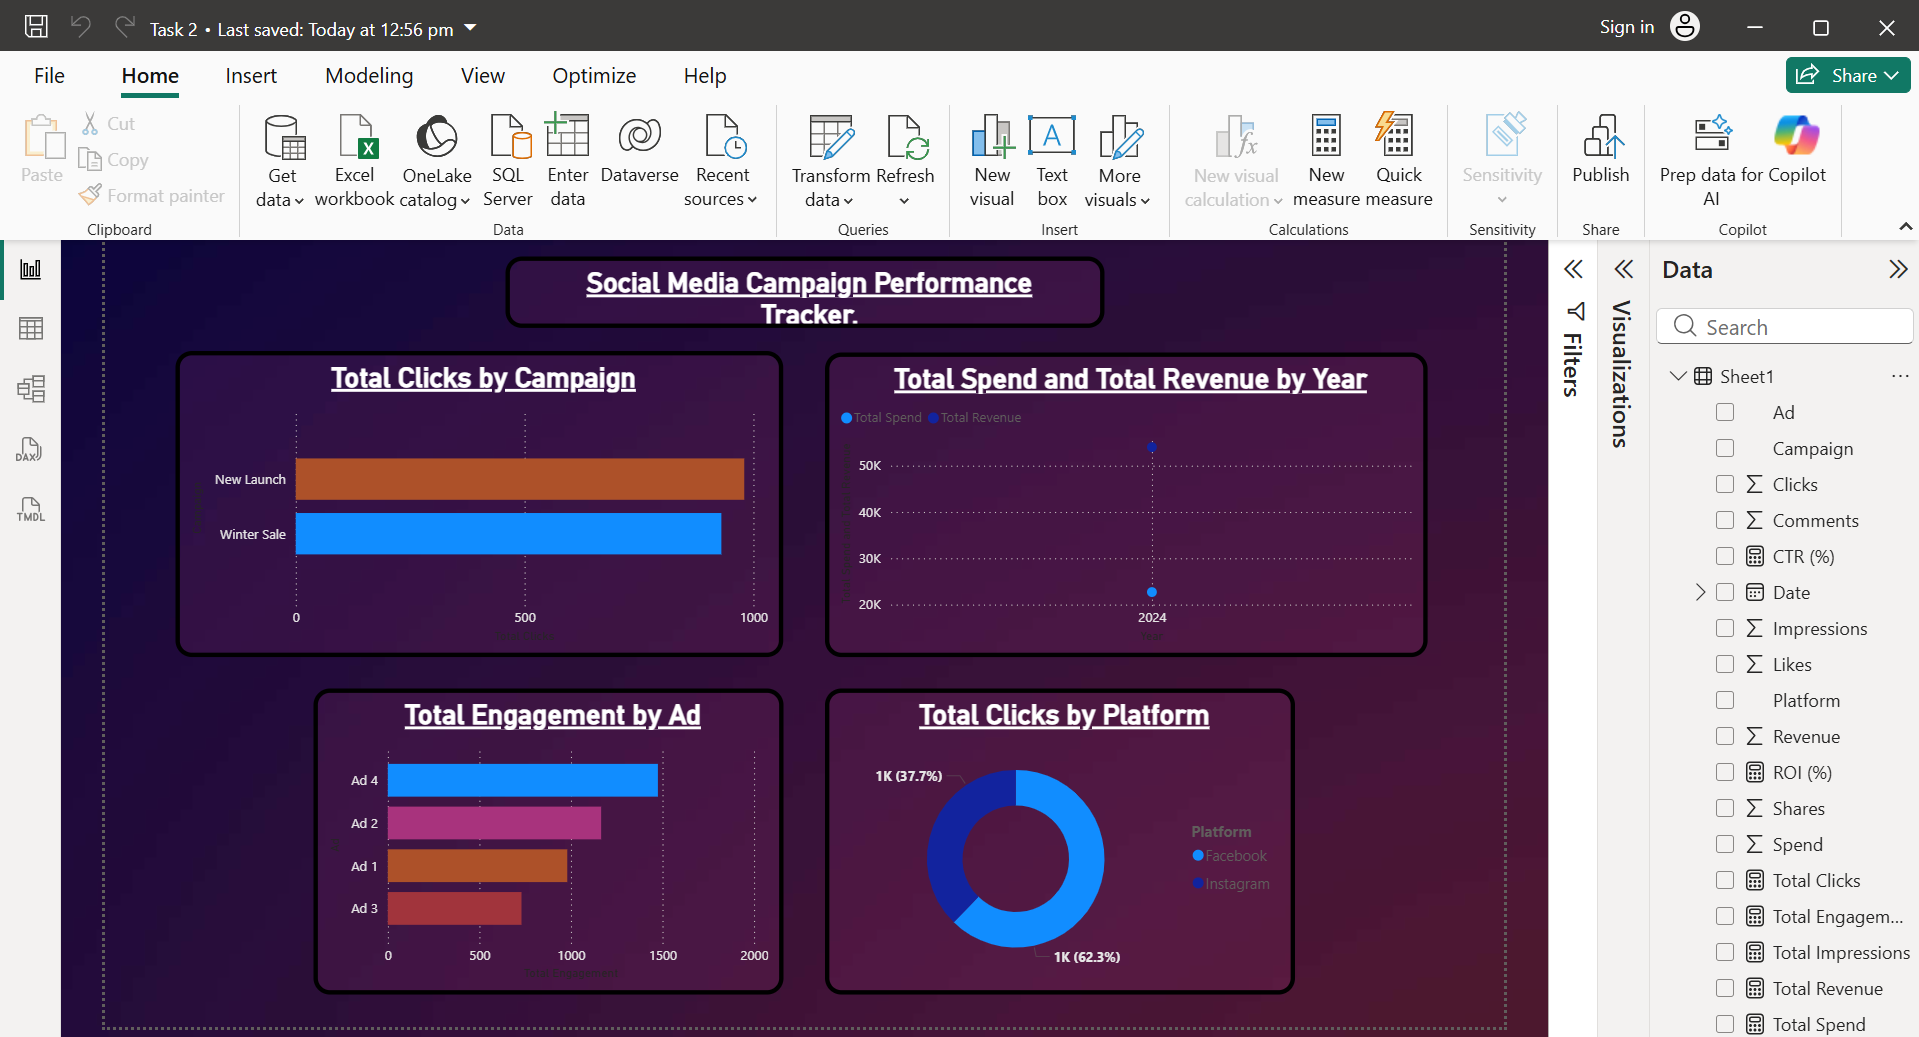

The dashboard page shown, as its layout file describes it:
{"tool":"powerbi","page":{"name":"Page 1","canvas":[1280,720],"ordinal":0},"visuals":[{"type":"clusteredBarChart","fields":{"Category":["Sheet1.Campaign"],"Y":["Sheet1.Total Clicks"]},"box":[65.1,101.5,555.7,280.1],"z":0},{"type":"clusteredBarChart","fields":{"Category":["Sheet1.Ad"],"Y":["Sheet1.Total Engagement"]},"box":[190.8,410.3,430,280.1],"z":1000},{"type":"lineChart","fields":{"Category":["Sheet1.Date.Variation.Date Hierarchy.Year","Sheet1.Date.Variation.Date Hierarchy.Quarter","Sheet1.Date.Variation.Date Hierarchy.Month","Sheet1.Date.Variation.Date Hierarchy.Day"],"Y":["Sheet1.Total Spend","Sheet1.Total Revenue"]},"box":[658.7,103,551.2,278.6],"z":2000},{"type":"donutChart","fields":{"Category":["Sheet1.Platform"],"Y":["Sheet1.Total Clicks"]},"box":[658.7,410.3,430,280.1],"z":3000},{"type":"textbox","title":"Social Media Campaign Performance Tracker.","box":[366.4,15.1,548.1,65.1],"z":4000}]}

Visuals, with their boxes on the page's 1280x720 design canvas (x1, y1, x2, y2). These are canvas units, not pixel positions in the 1919x1037 screenshot, which may show the page scaled, cropped or inside an application window:
clusteredBarChart - Sheet1.Campaign x Sheet1.Total Clicks: <region>65, 102, 621, 382</region>
clusteredBarChart - Sheet1.Ad x Sheet1.Total Engagement: <region>191, 410, 621, 690</region>
lineChart - Sheet1.Date.Variation.Date Hierarchy.Year x Sheet1.Date.Variation.Date Hierarchy.Quarter: <region>659, 103, 1210, 382</region>
donutChart - Sheet1.Platform x Sheet1.Total Clicks: <region>659, 410, 1089, 690</region>
"Social Media Campaign Performance Tracker." textbox: <region>366, 15, 914, 80</region>
